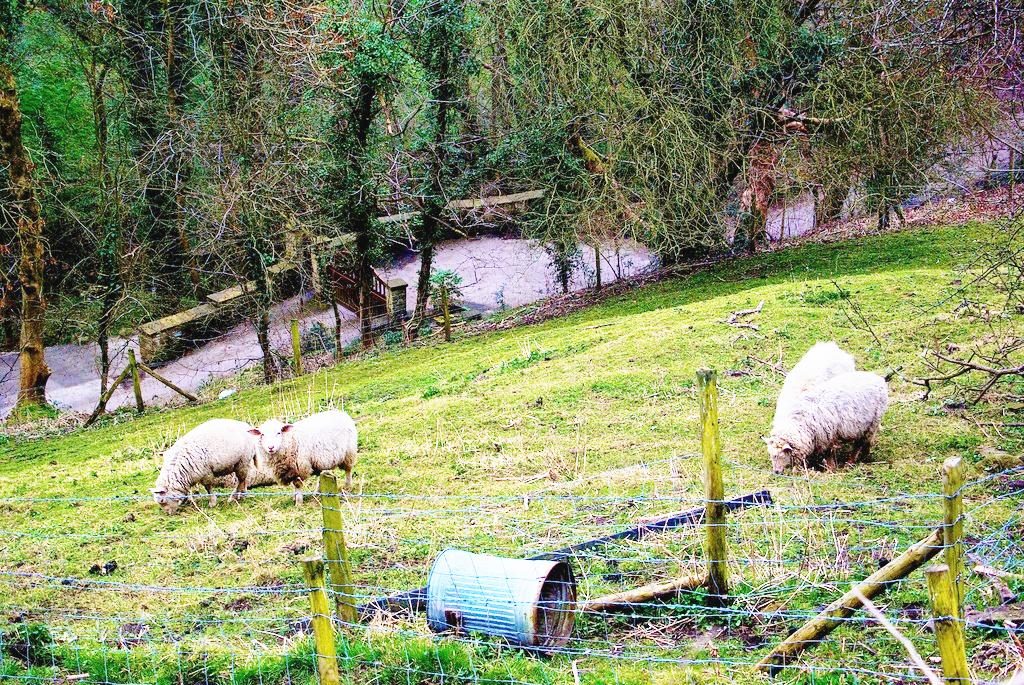Sheep: (761, 370, 888, 474), (147, 411, 258, 520), (251, 415, 353, 496), (768, 343, 856, 428)
